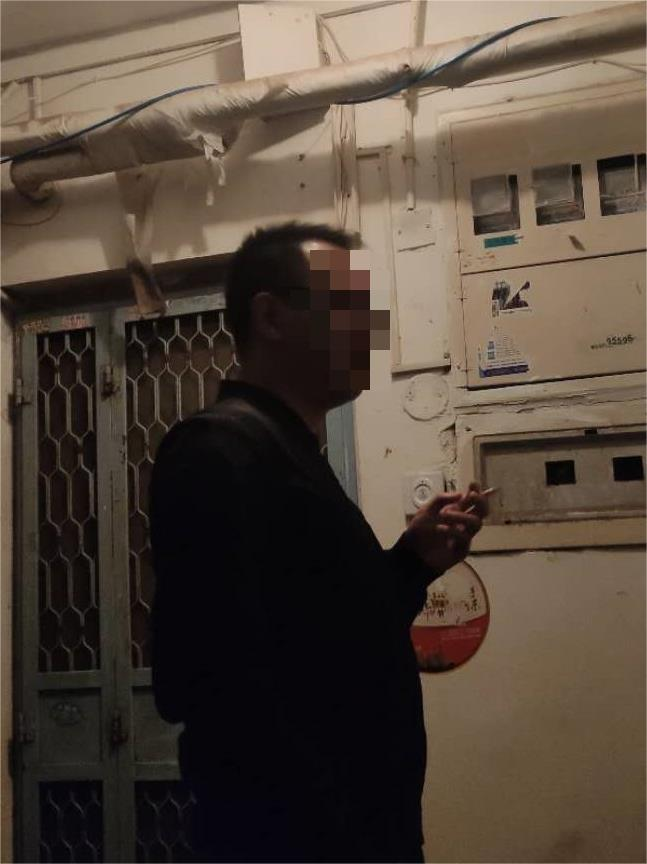smoke: (463, 484, 500, 510)
